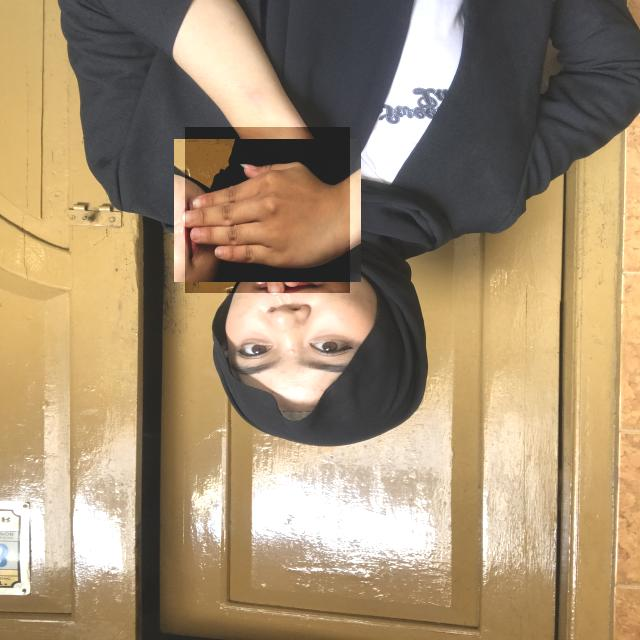ganteng: (185, 127, 350, 293)
